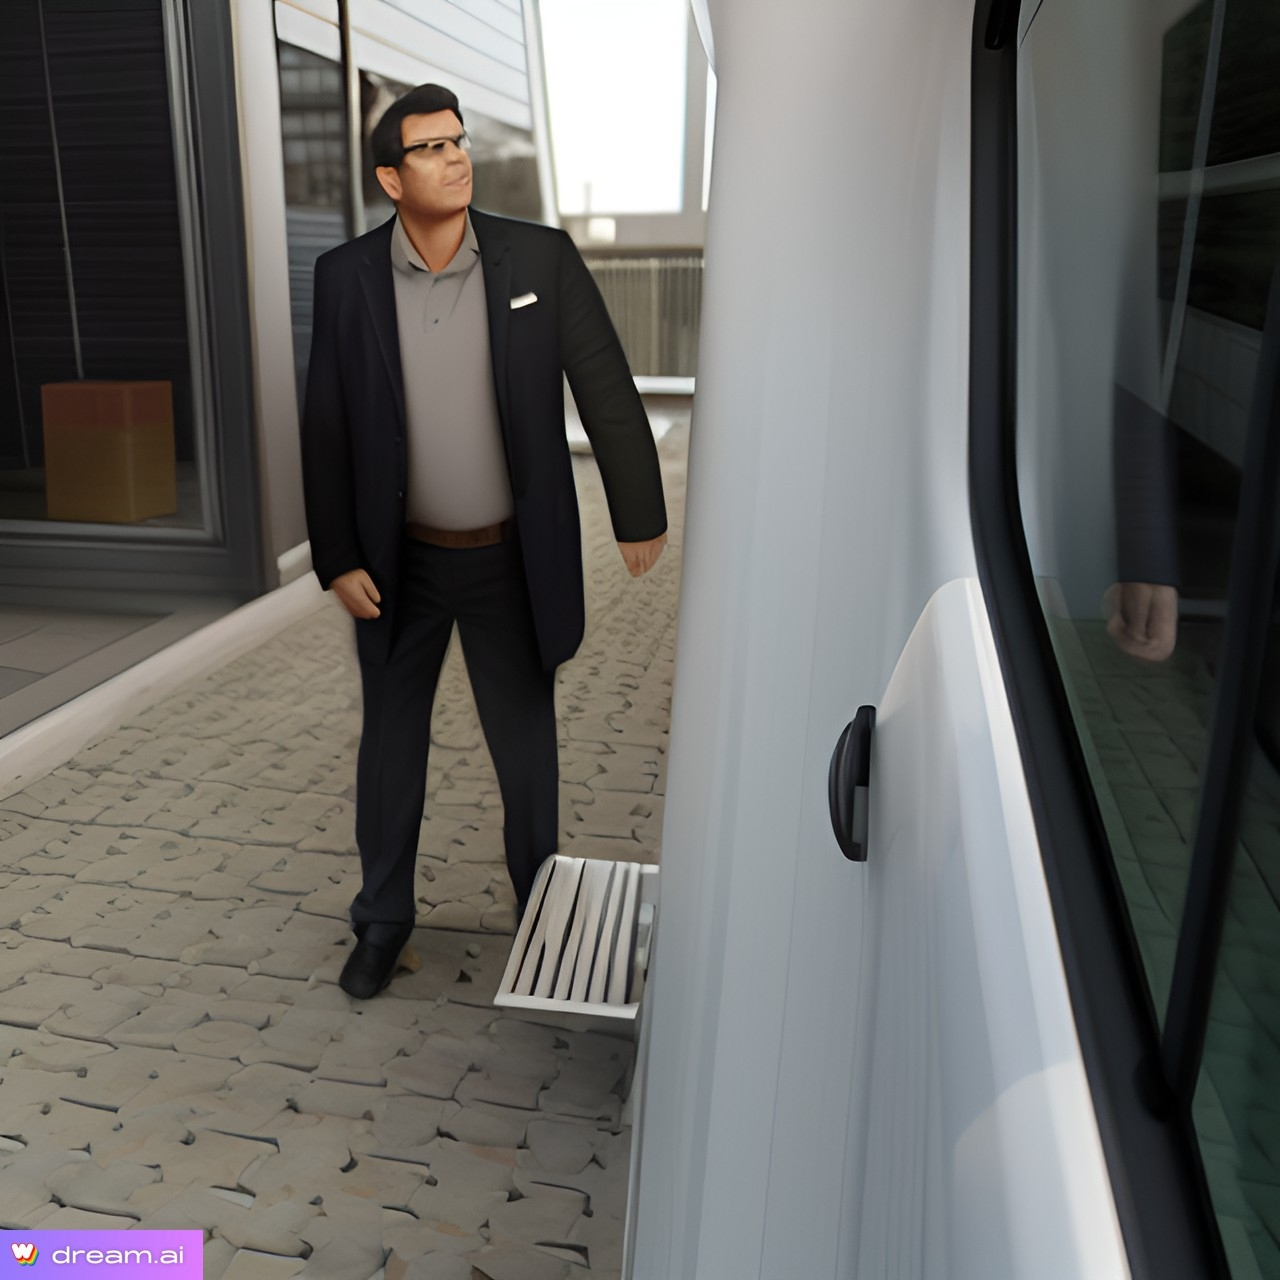step_front: (489, 825, 663, 1032)
